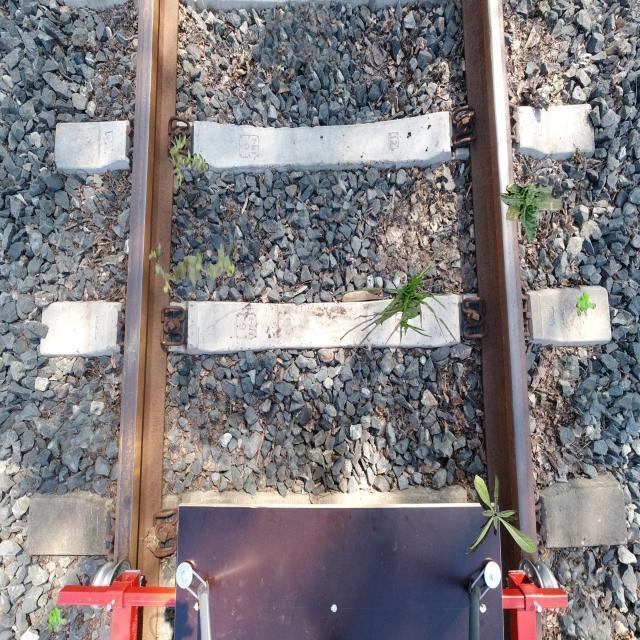Plant: (340, 241, 458, 364), (465, 474, 536, 555), (149, 242, 236, 294), (499, 183, 562, 245), (168, 134, 210, 188), (47, 607, 68, 632), (576, 292, 596, 317)
